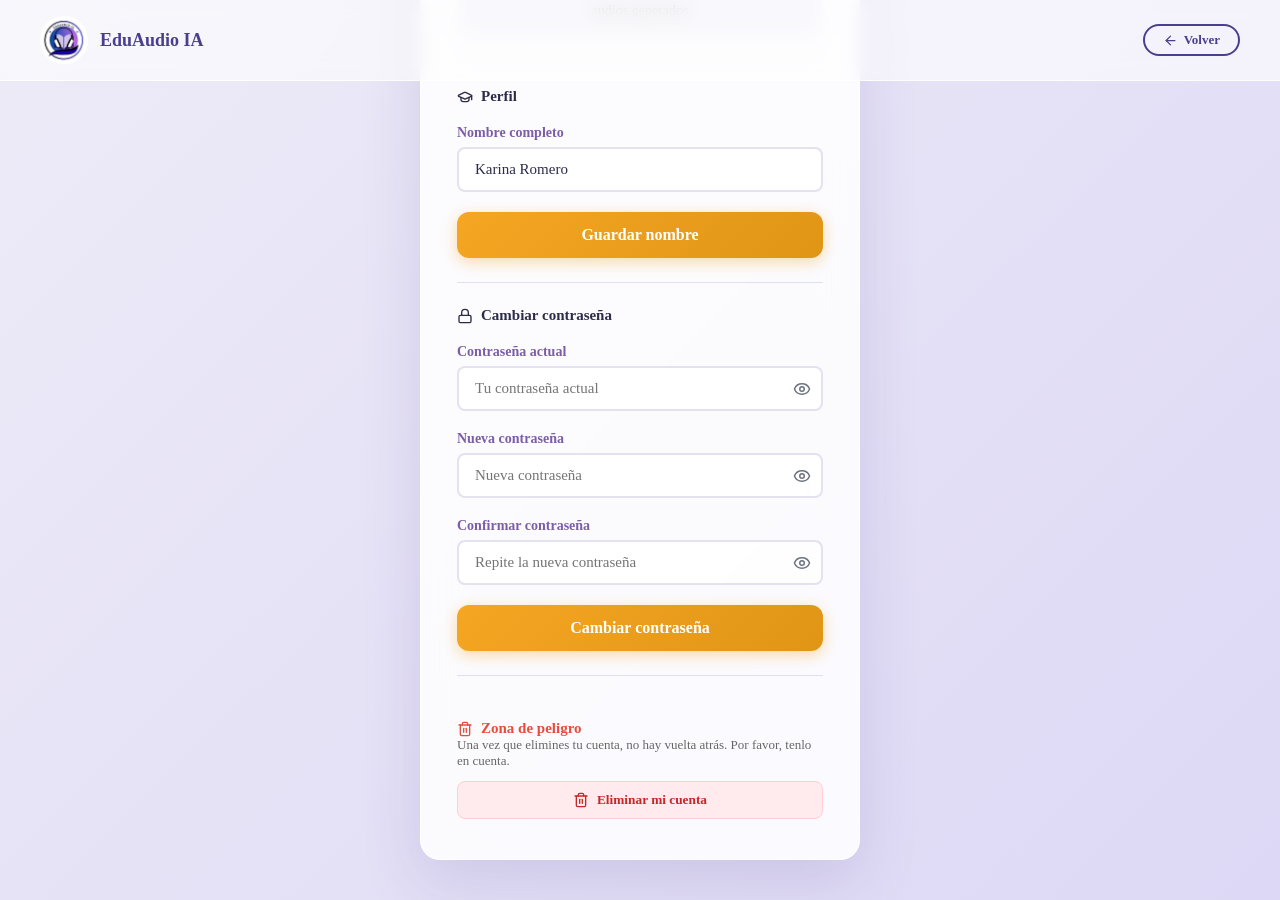
Test: Perfil › muestra error si intenta cambiar contraseña con campos vacíos
(page scrolled)
Click the button "Cambiar contraseña".
click(640, 628)  # box [457,605,823,651]
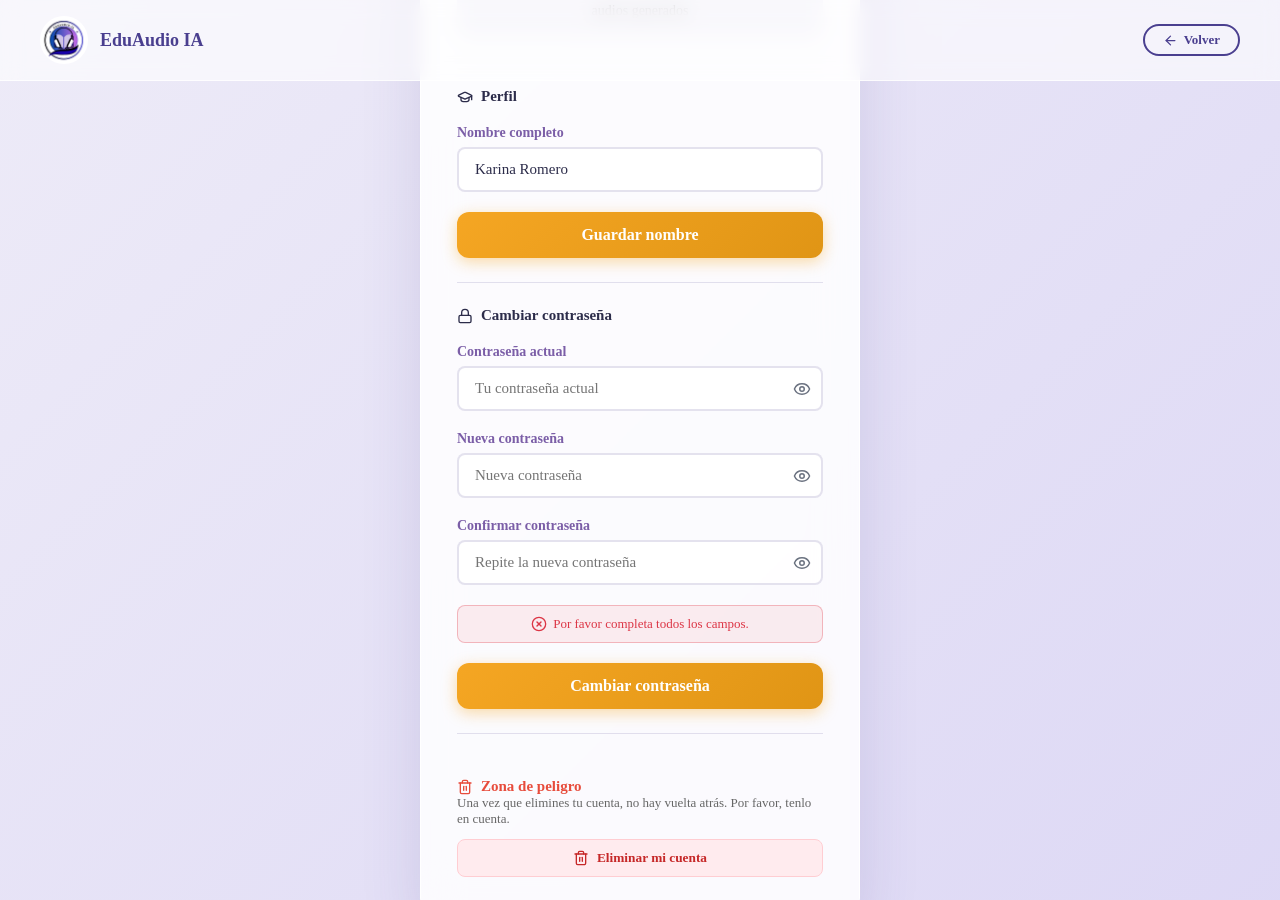
Check: the text "Por favor completa todos los campos." is shown, box [457,605,823,643]
